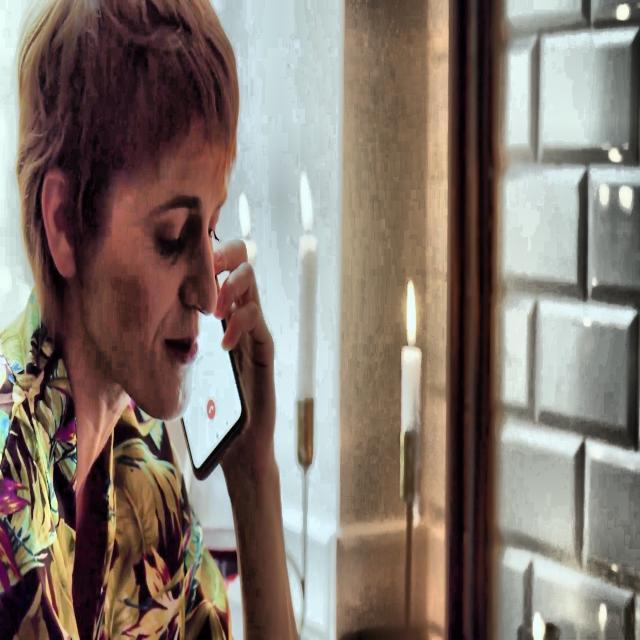Phone: (178, 264, 249, 484)
